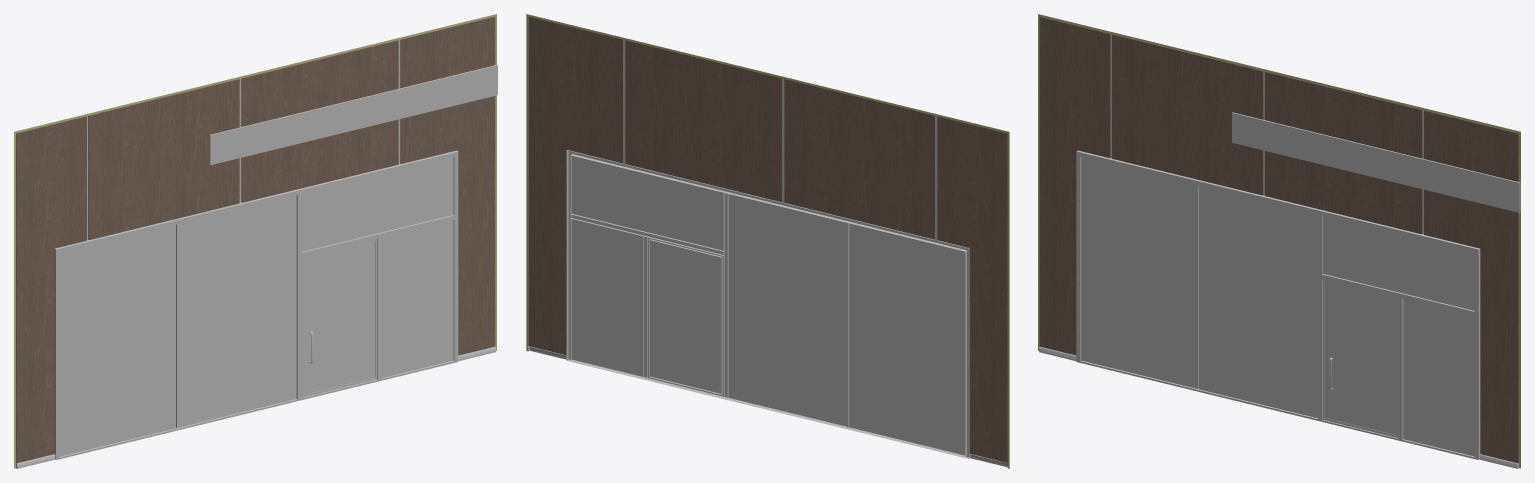
3 views of the same model, side by side, from view 1: azimuth 30°, elevation 25°; view 2: azimuth 150°, elevation 25°; view 3: azimuth 330°, elevation 25° (orthographic).
Visible parts, largest first — view 1: M_W_002_b_12x8; view 2: M_W_002_b_12x8; view 3: M_W_002_b_12x8.
Part boxes in pixels (x1,y1,x2,y2): M_W_002_b_12x8: (14, 14, 497, 468); M_W_002_b_12x8: (526, 14, 1009, 468); M_W_002_b_12x8: (1038, 14, 1520, 468).
Size of the model in its own units: 12 by 8 by 0.1235.
